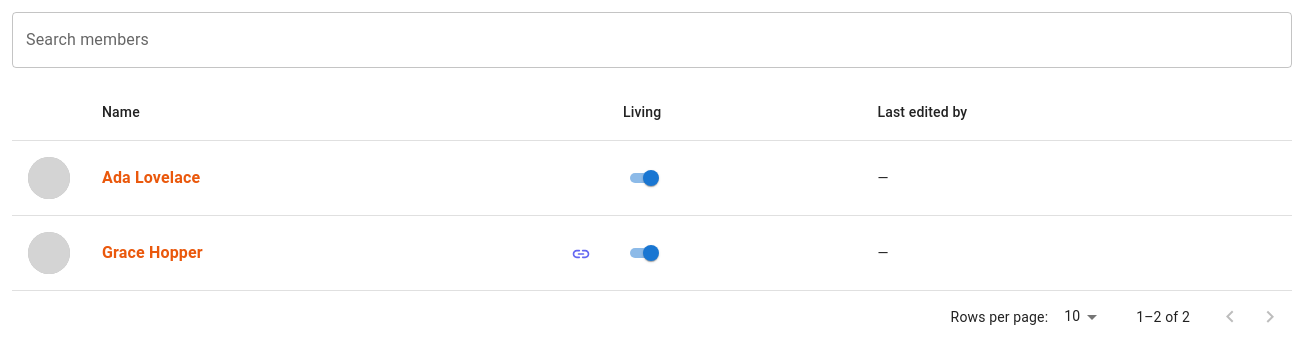
Test case: AdminMemberTable › renders the empty-state message when the search matches nothing
The width and height of the screenshot is (1304, 342).
Type "zzz" into the field labelled "Search members".
click(652, 40); type("zzz")  # box x1=12 y1=12 x2=1292 y2=68
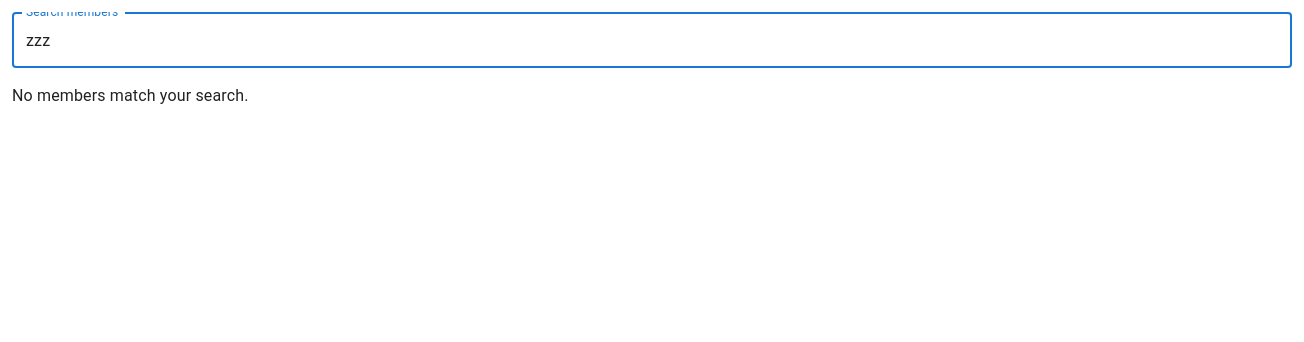
Check: the text "No members match your search." is shown, box x1=12 y1=86 x2=249 y2=105
Check: the text "Ada Lovelace" is gone
Check: the text "Grace Hopper" is gone
